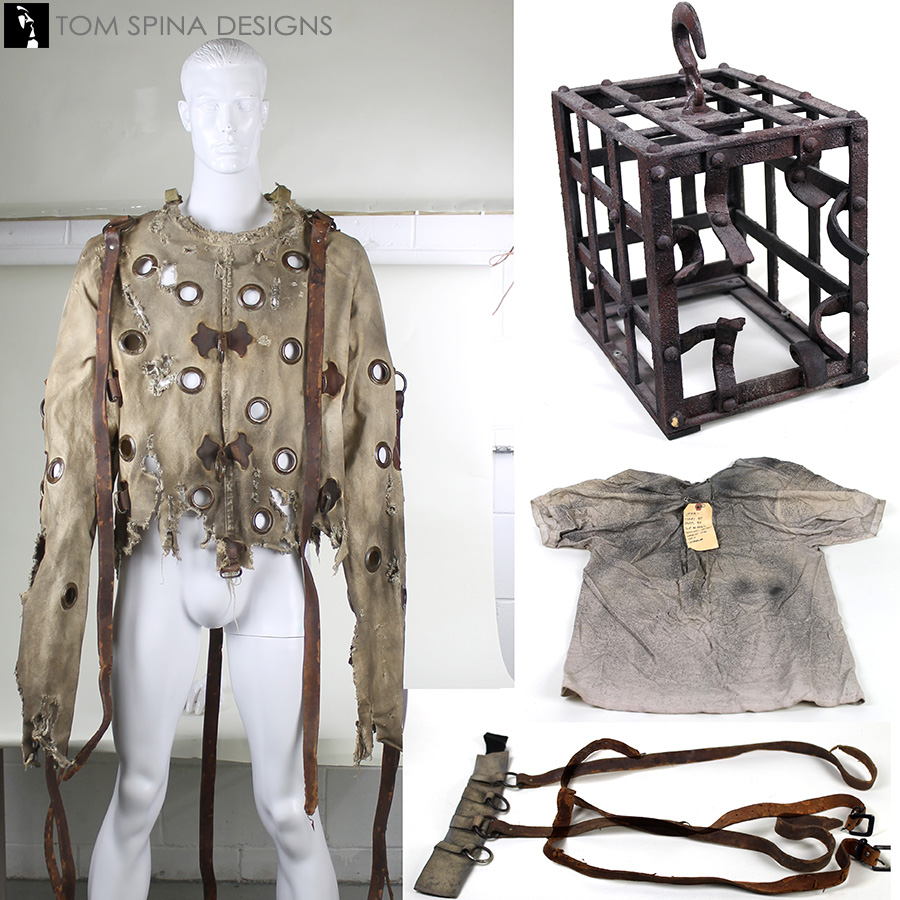person-like: (11, 33, 409, 900)
